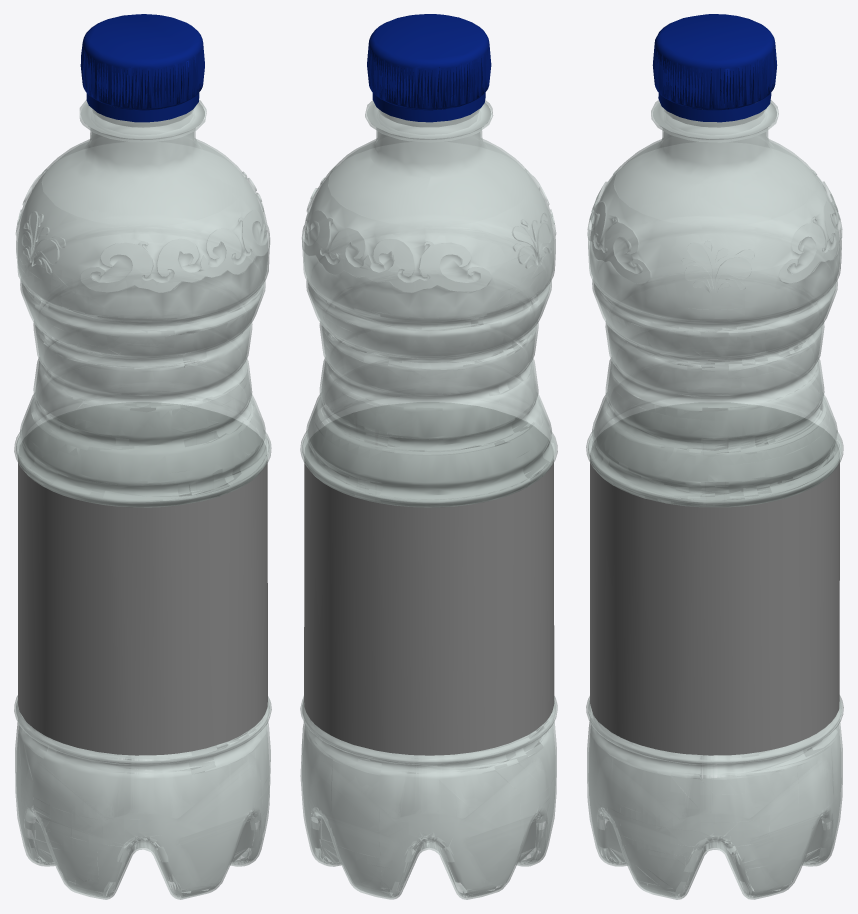
The model's file is Bottle.FBX.
The picture shows the model from 3 angles, left to right: view 1: azimuth 30°, elevation 25°; view 2: azimuth 150°, elevation 25°; view 3: azimuth 270°, elevation 25°; orthographic projection.
Visible parts, largest first — view 1: Bottle; view 2: Bottle; view 3: Bottle.
Boxes of the visible parts, box(x1,y1,x2,y2) form: Bottle: box(14, 14, 271, 899); Bottle: box(300, 14, 557, 899); Bottle: box(586, 14, 843, 899).
Bounding box in the file's own units: 68.31 × 68.36 × 241.
